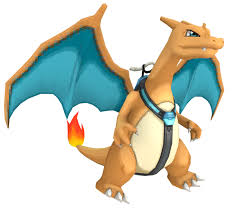charizard: (4, 4, 226, 204)
